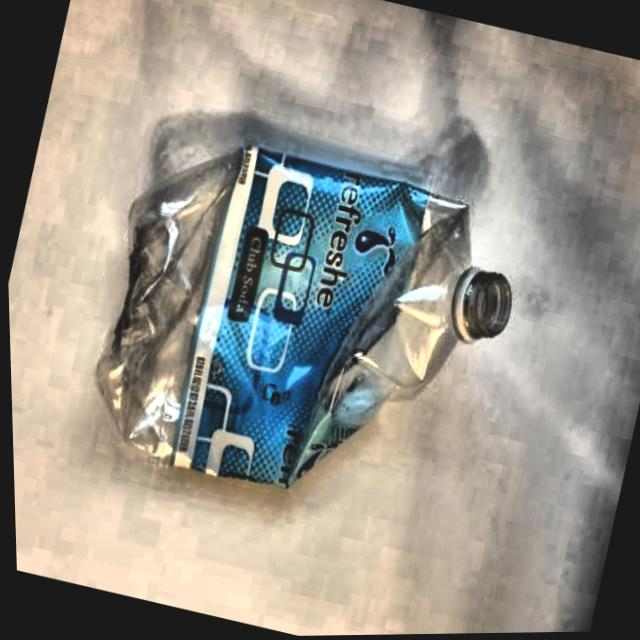Plastic: (54, 97, 549, 554)
